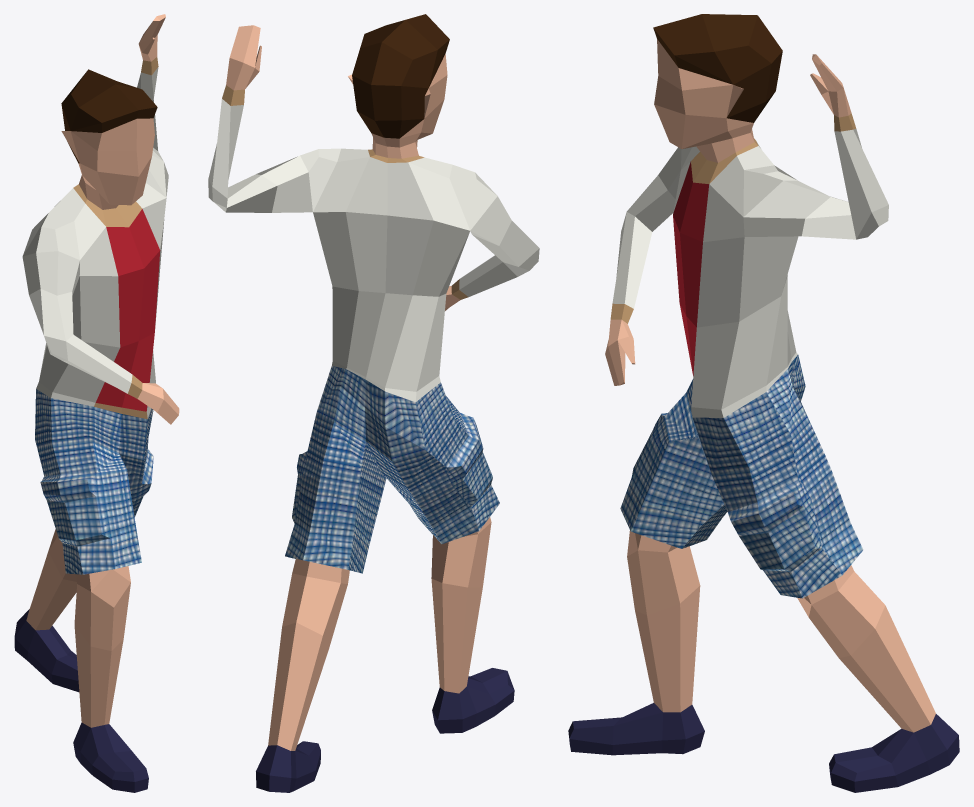
File: SpringBoy.009.glb
3 renders of one model, left to right at view 1: azimuth 30°, elevation 25°; view 2: azimuth 150°, elevation 25°; view 3: azimuth 270°, elevation 25°, orthographic. The views are drawn at different scales.
Visible parts, largest first — view 1: SpringBoy.009; view 2: SpringBoy.009; view 3: SpringBoy.009.
Boxes of the visible parts, x1,y1,x2,y2 form: SpringBoy.009: [14, 14, 179, 792]; SpringBoy.009: [208, 14, 539, 792]; SpringBoy.009: [568, 14, 959, 792].
Bounding box in the file's own units: 0.3955 × 1.21 × 0.5622.
Materials: 1 (1 with a texture image).
